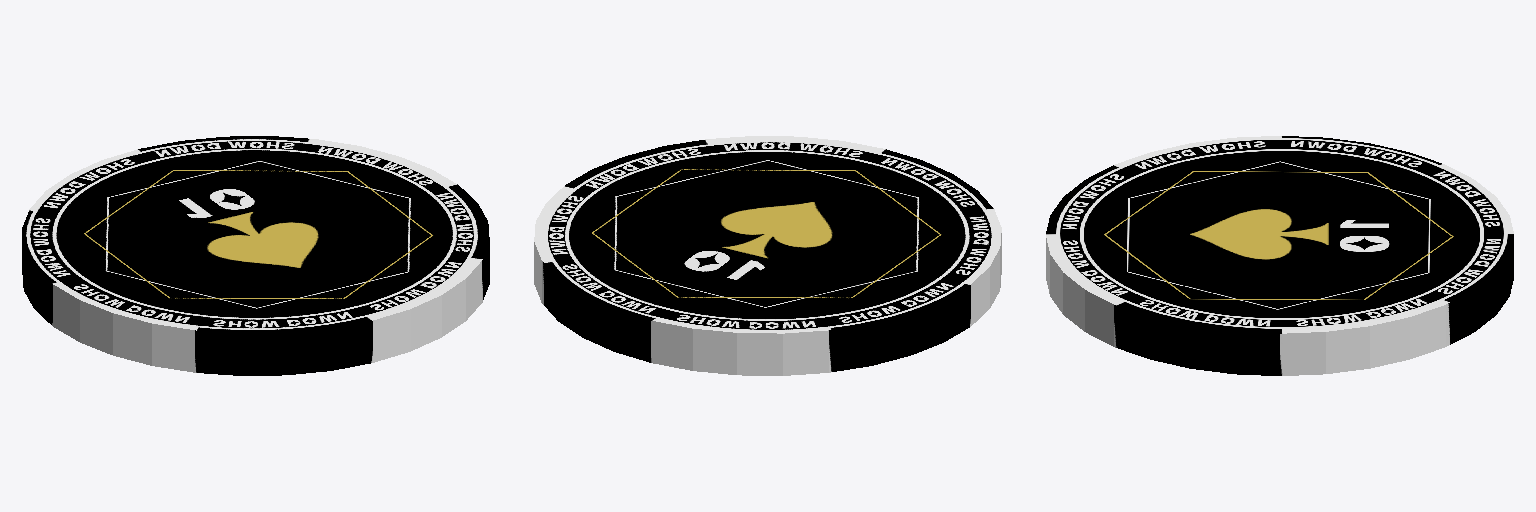
The picture shows the model from 3 angles: view 1: azimuth 30°, elevation 25°; view 2: azimuth 150°, elevation 25°; view 3: azimuth 270°, elevation 25°; orthographic projection.
Parts seen in each view (by area): view 1: CoinMesh; view 2: CoinMesh; view 3: CoinMesh.
Boxes of the visible parts, <box> form: CoinMesh: <box>22,136,489,375</box>; CoinMesh: <box>534,136,1001,375</box>; CoinMesh: <box>1046,136,1513,375</box>.
Size of the model in its own units: 0.04 by 0.004 by 0.04.
Materials: 1 (1 with a texture image).